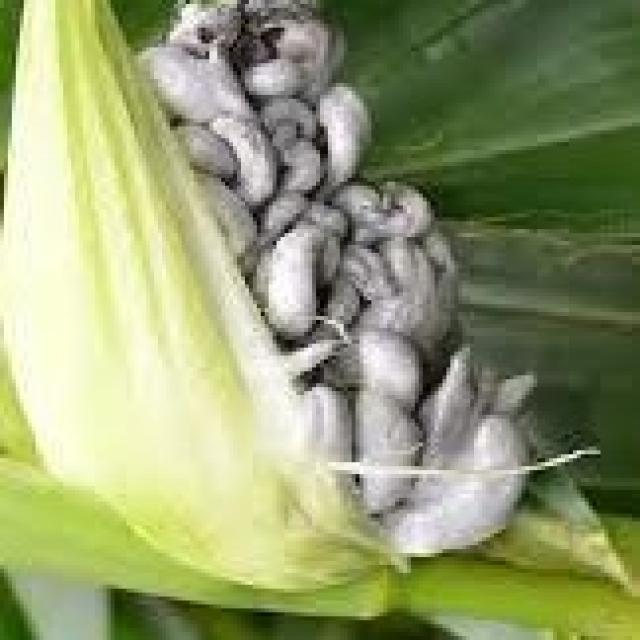Leaf_Scald: (64, 0, 618, 576)
